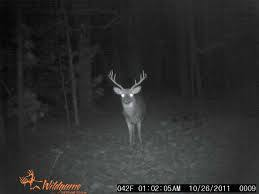raccoon: (92, 56, 167, 144)
